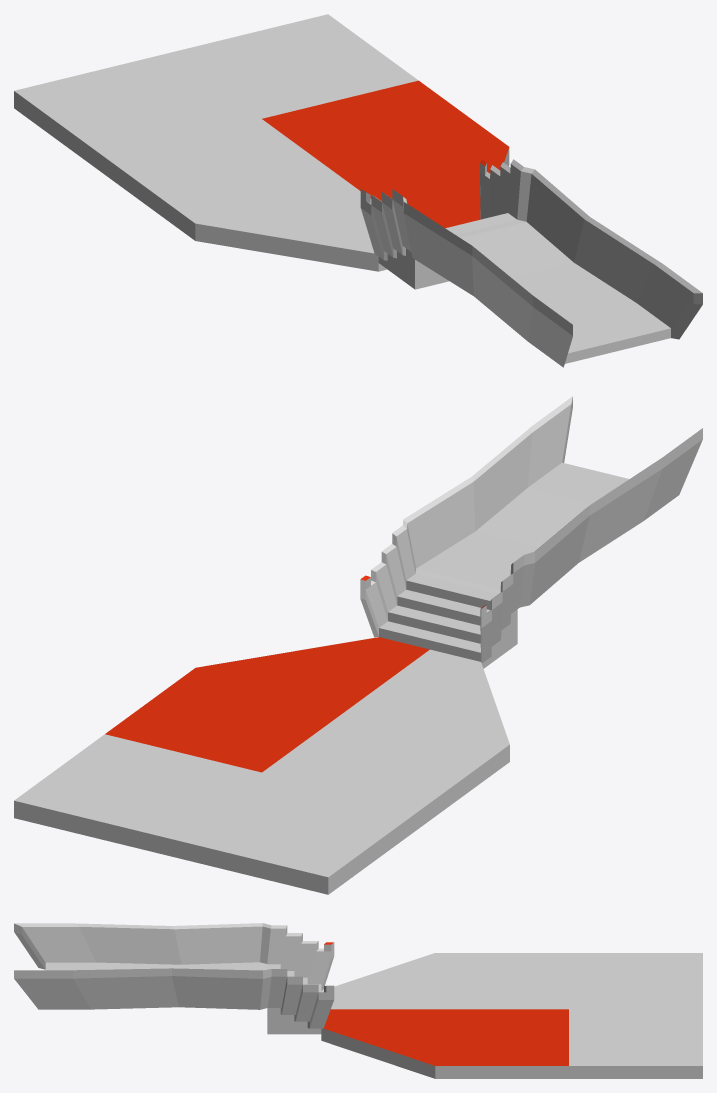
3 views of the same model, one above another, from view 1: azimuth 30°, elevation 25°; view 2: azimuth 150°, elevation 25°; view 3: azimuth 270°, elevation 25° (orthographic). The views are drawn at different scales.
Visible parts, largest first — view 1: Cube; view 2: Cube; view 3: Cube.
Part boxes in pixels (x1=…): Cube: x1=14, y1=14, x2=702, y2=367; Cube: x1=14, y1=396, x2=702, y2=894; Cube: x1=14, y1=923, x2=702, y2=1078.
Bounding box in the file's own units: 1257 × 392 × 3234.
